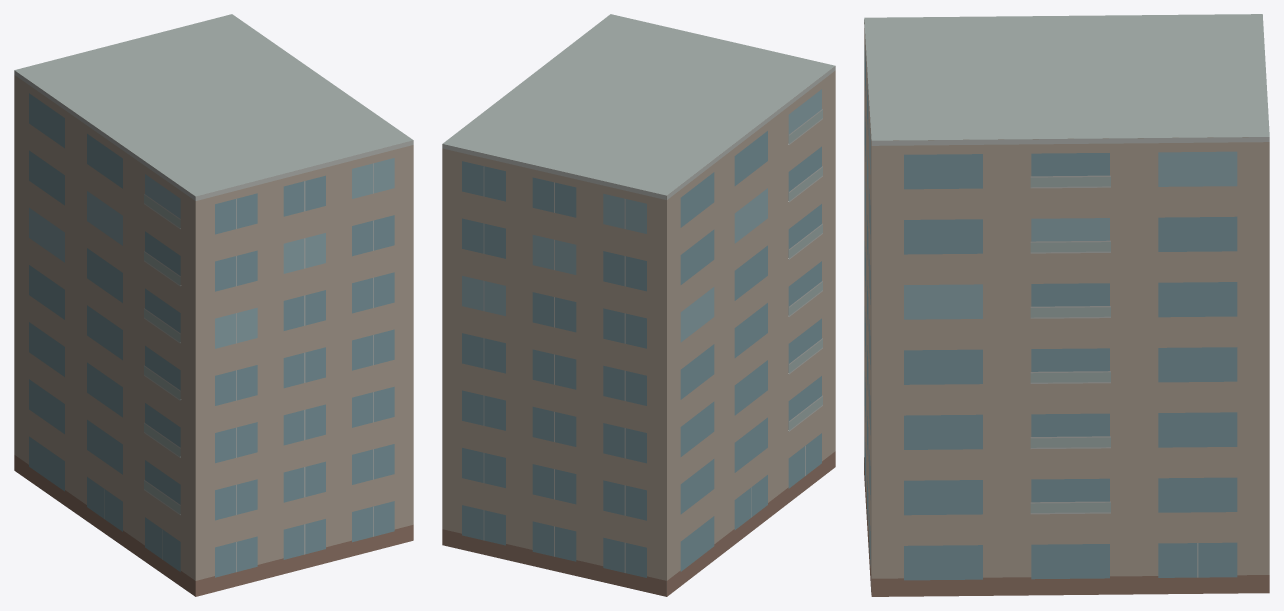
File: survey-upis-32905013.glb
3 views of the same model, side by side, from view 1: azimuth 30°, elevation 25°; view 2: azimuth 150°, elevation 25°; view 3: azimuth 270°, elevation 25° (orthographic). The views are drawn at different scales.
Parts seen in each view (by area): view 1: survey-upis-32905013.tmp; view 2: survey-upis-32905013.tmp; view 3: survey-upis-32905013.tmp.
Boxes of the visible parts, x1=… form: survey-upis-32905013.tmp: x1=14, y1=14, x2=413, y2=596; survey-upis-32905013.tmp: x1=442, y1=14, x2=835, y2=596; survey-upis-32905013.tmp: x1=864, y1=14, x2=1269, y2=596.
Size of the model in its own units: 12.69 by 21.3 by 17.17.
